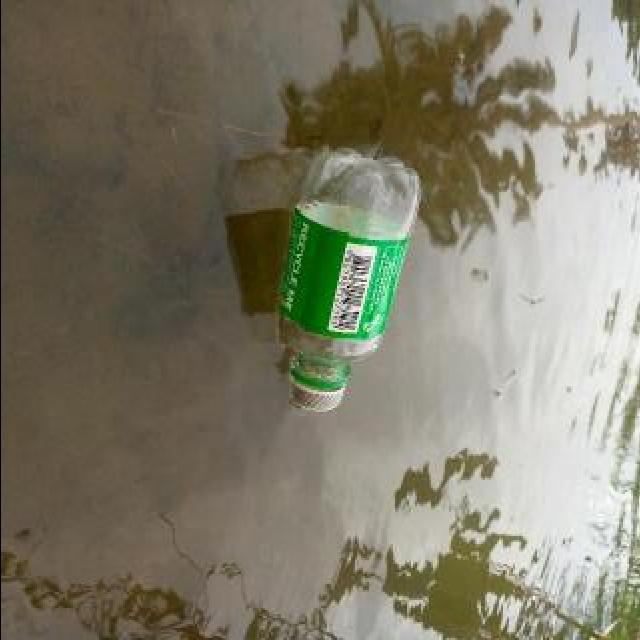Bottle: (266, 138, 424, 422)
